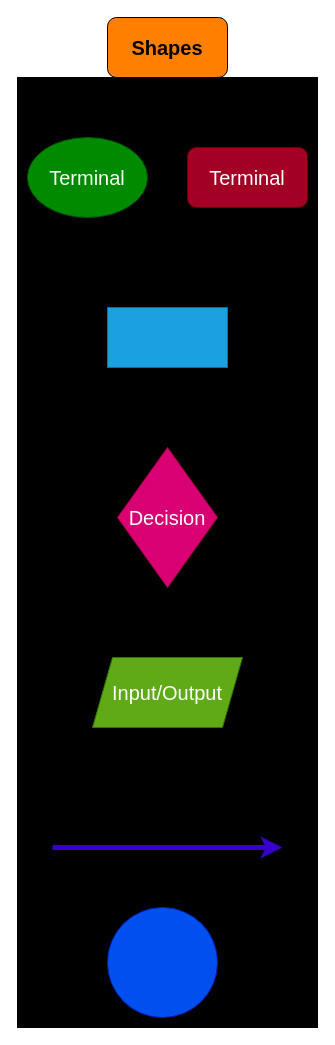
Some shapes in this 335 by 1045 pixel diagram are drawn without their labels. Here are the shapes that lost their labels. From the top down, the centre of each, then its label:
At (x=167, y=337): "Process".
At (x=162, y=962): "Connectors".
